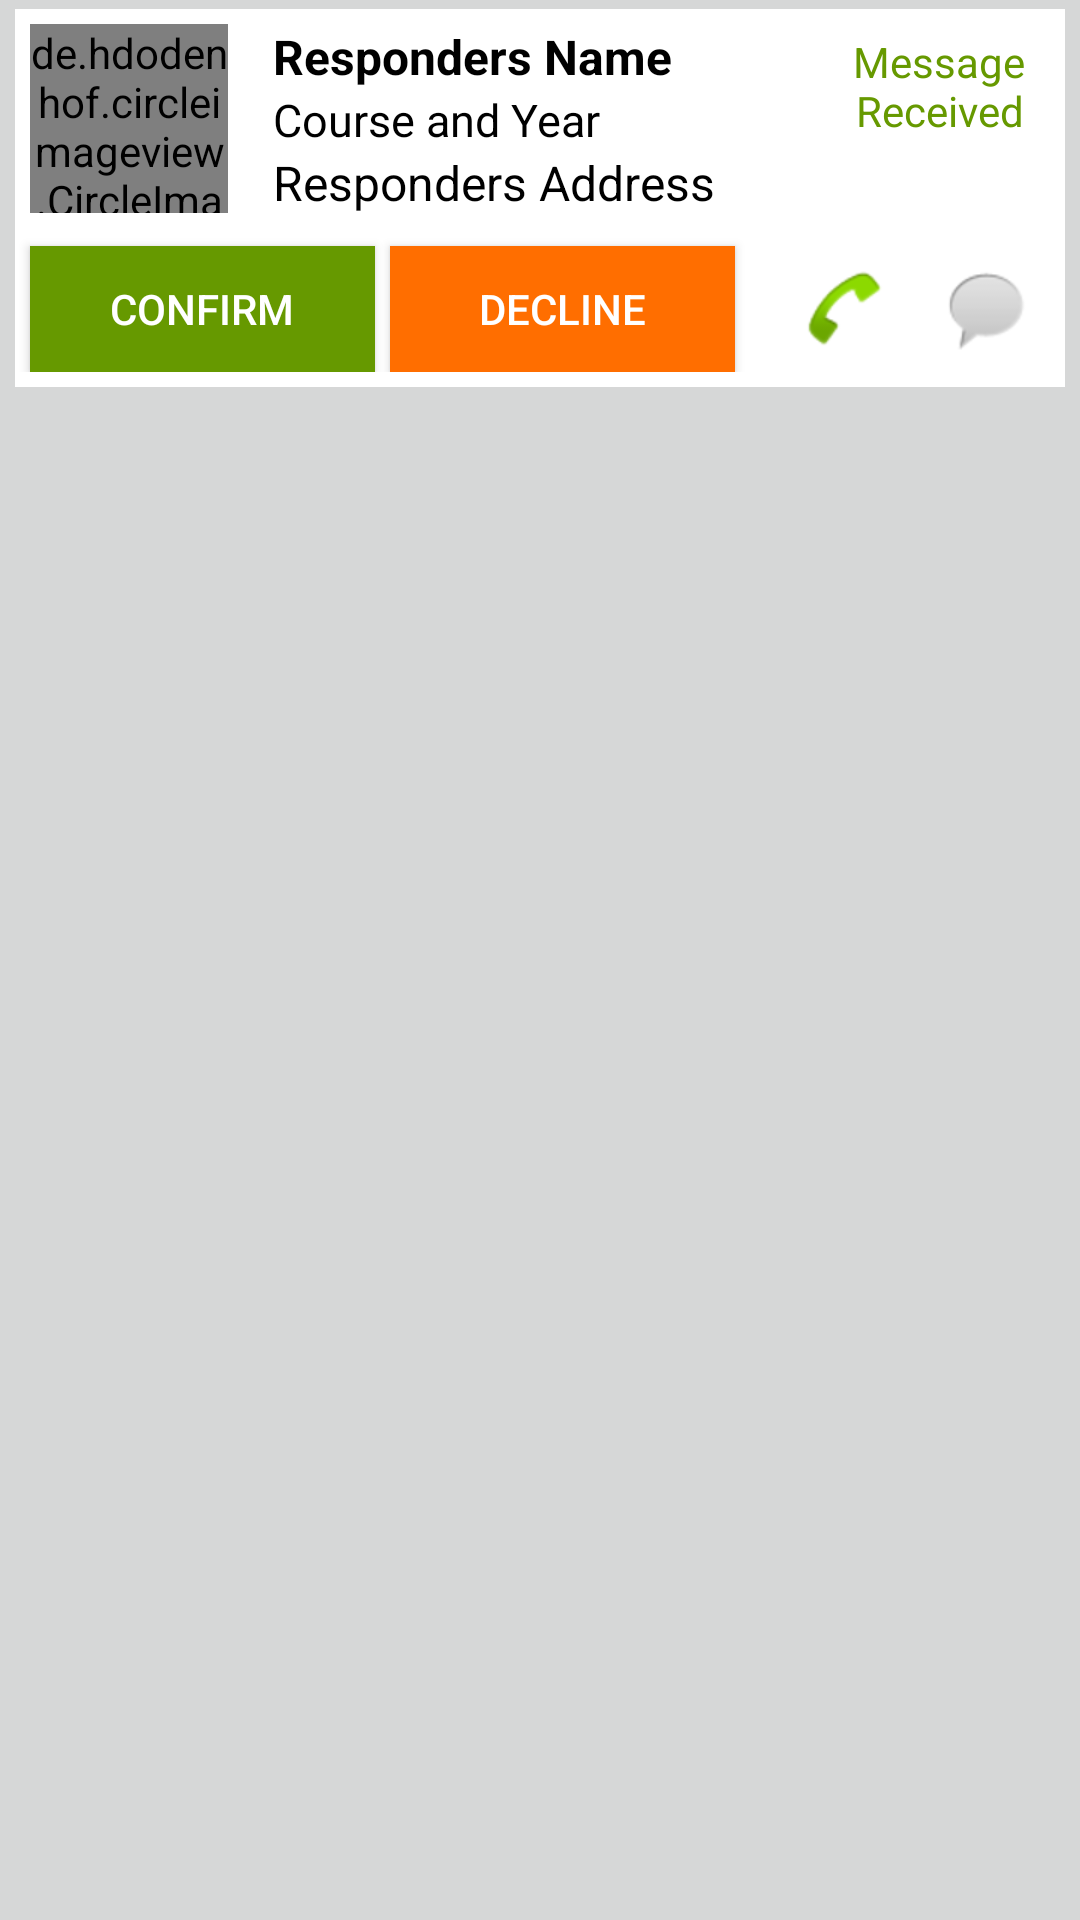

Locate icon controls on the screen. Image size 1080 × 1920, boxes as (x1, y1, x2, y2).
sym action call: (808, 272, 881, 345)
sym action chat: (949, 273, 1022, 348)
